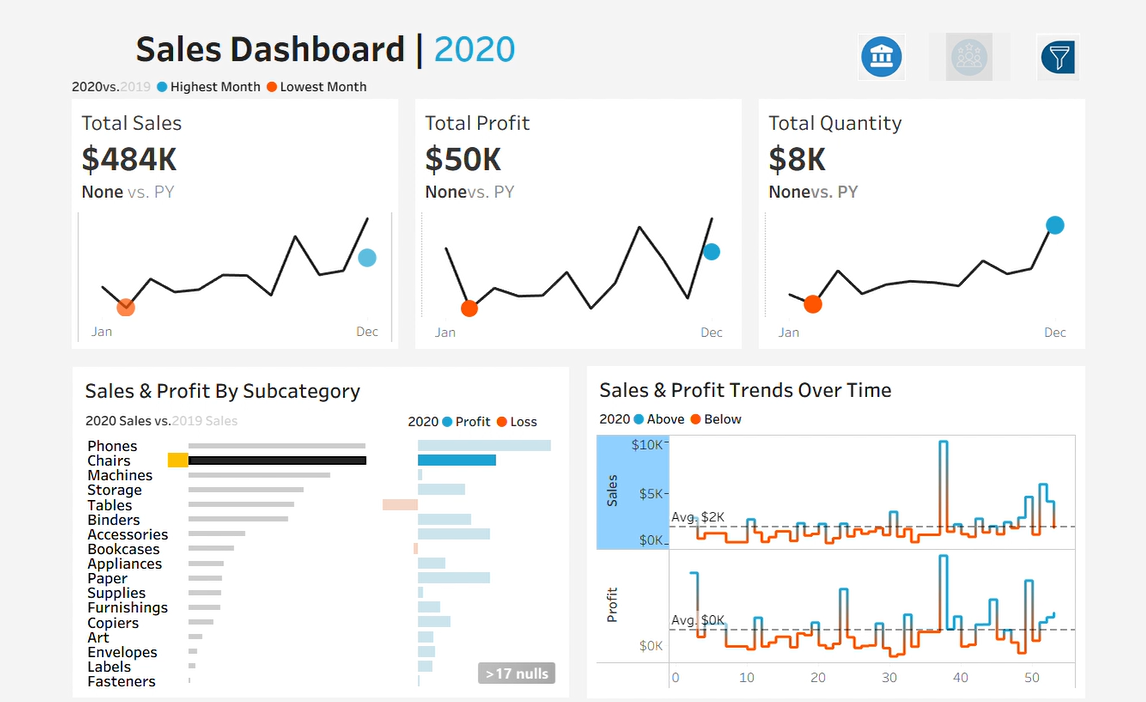

The page's visual inventory and layout, read from the dashboard file:
{"tool":"tableau","page":{"name":"Sales Dashboard","canvas":[1200,800],"ordinal":0},"visuals":[{"type":"image","param":"D:/Tableau Data/PROJECT 1/Icons/image_8e3acc83.jpg","box":[0,0,77,64]},{"type":"text","box":[77,0,813,64]},{"type":"dashboard-object","box":[900,11,104,64]},{"type":"dashboard-object","box":[1004,11,103,64]},{"type":"dashboard-object","box":[1067,11,24,24]},{"type":"worksheet","title":"Legend KPI","mark":"Automatic","box":[0,64,1200,28]},{"type":"worksheet","title":"KPI Sales","mark":"Automatic","rows":["Calculation_1233708833493017"],"cols":["Order Date"],"box":[0,92,400,301]},{"type":"worksheet","title":"KPI Profit","mark":"Automatic","rows":["Calculation_1233708833845274"],"cols":["Order Date"],"box":[400,92,400,301]},{"type":"worksheet","title":"KPI Quantity","mark":"Automatic","rows":["Calculation_1233708833947675"],"cols":["Order Date"],"box":[800,92,400,301]},{"type":"parameter","param":"[Parameters].[Parameter 1018204089180168]","box":[984,94,210,106]},{"type":"text","box":[617,410,566,40]},{"type":"text","box":[18,411,564,40]},{"type":"text","box":[617,450,566,29]},{"type":"worksheet","title":"Legend Subcategory","mark":"Automatic","box":[18,451,376,32]},{"type":"text","box":[394,451,188,32]},{"type":"worksheet","title":"Weekly Trend","mark":"Automatic","rows":["Calculation_1233708710719490","Calculation_1233708711276547"],"cols":["Order Date"],"box":[617,479,566,304]},{"type":"worksheet","title":"Subcategory Comparison","mark":"Bar","rows":["Sub-Category","Calculation_1233708832919574"],"cols":["Calculation_1233708713390087","Calculation_1233708710719490","Calculation_1233708711276547"],"box":[18,483,564,298.9]}]}

Visuals, with their boxes on the page's 1200x800 design canvas (x1, y1, x2, y2). These are canvas units, not pixel positions in the 1146x702 screenshot, which may show the page scaled, cropped or inside an application window:
image: rect(0, 0, 77, 64)
text: rect(77, 0, 890, 64)
dashboard-object: rect(900, 11, 1004, 75)
dashboard-object: rect(1004, 11, 1107, 75)
dashboard-object: rect(1067, 11, 1091, 35)
"Legend KPI" worksheet: rect(0, 64, 1200, 92)
"KPI Sales" worksheet: rect(0, 92, 400, 393)
"KPI Profit" worksheet: rect(400, 92, 800, 393)
"KPI Quantity" worksheet: rect(800, 92, 1200, 393)
parameter: rect(984, 94, 1194, 200)
text: rect(617, 410, 1183, 450)
text: rect(18, 411, 582, 451)
text: rect(617, 450, 1183, 479)
"Legend Subcategory" worksheet: rect(18, 451, 394, 483)
text: rect(394, 451, 582, 483)
"Weekly Trend" worksheet: rect(617, 479, 1183, 783)
"Subcategory Comparison" worksheet (Bar marks): rect(18, 483, 582, 782)
